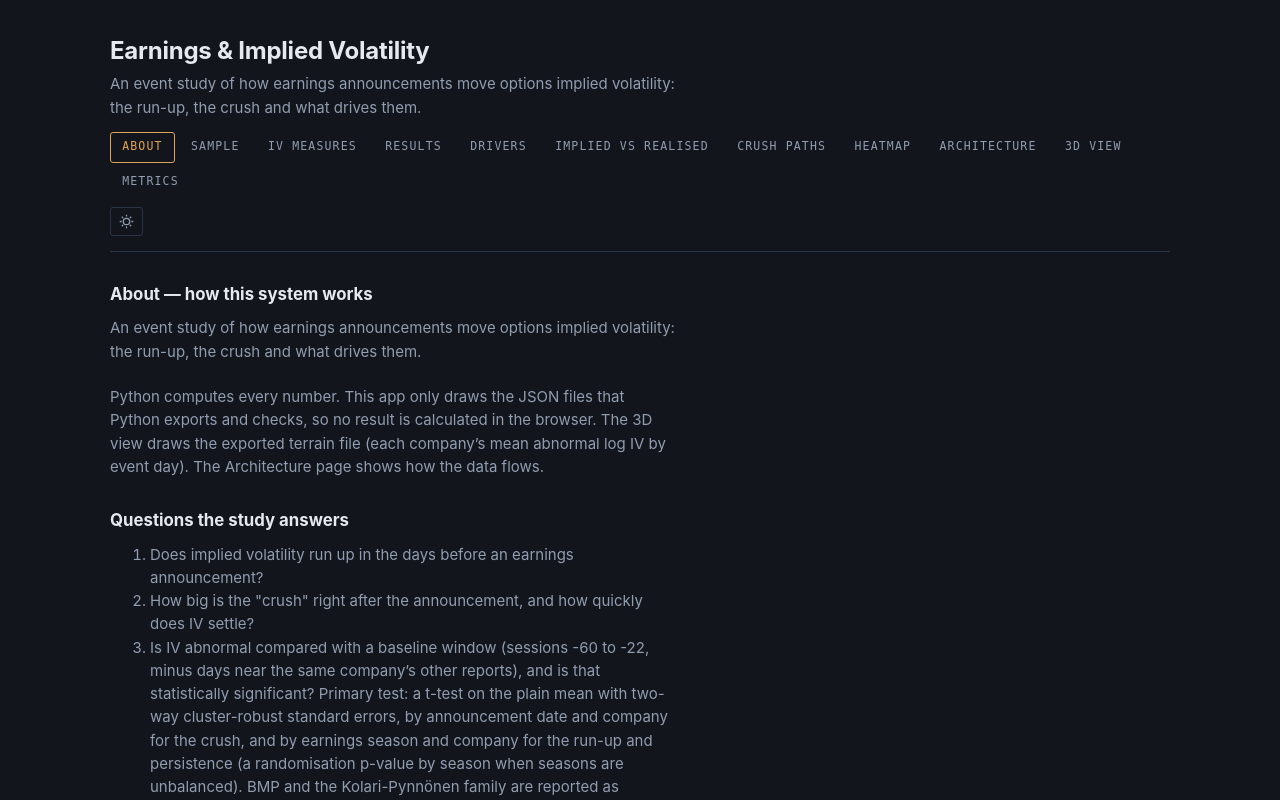
App (integration) › has an IV measures page, after Sample, that draws iv_measures.json (the fixture here)
Click the link "IV measures" at (312,146), box [268, 139, 357, 153]
(page scrolled)
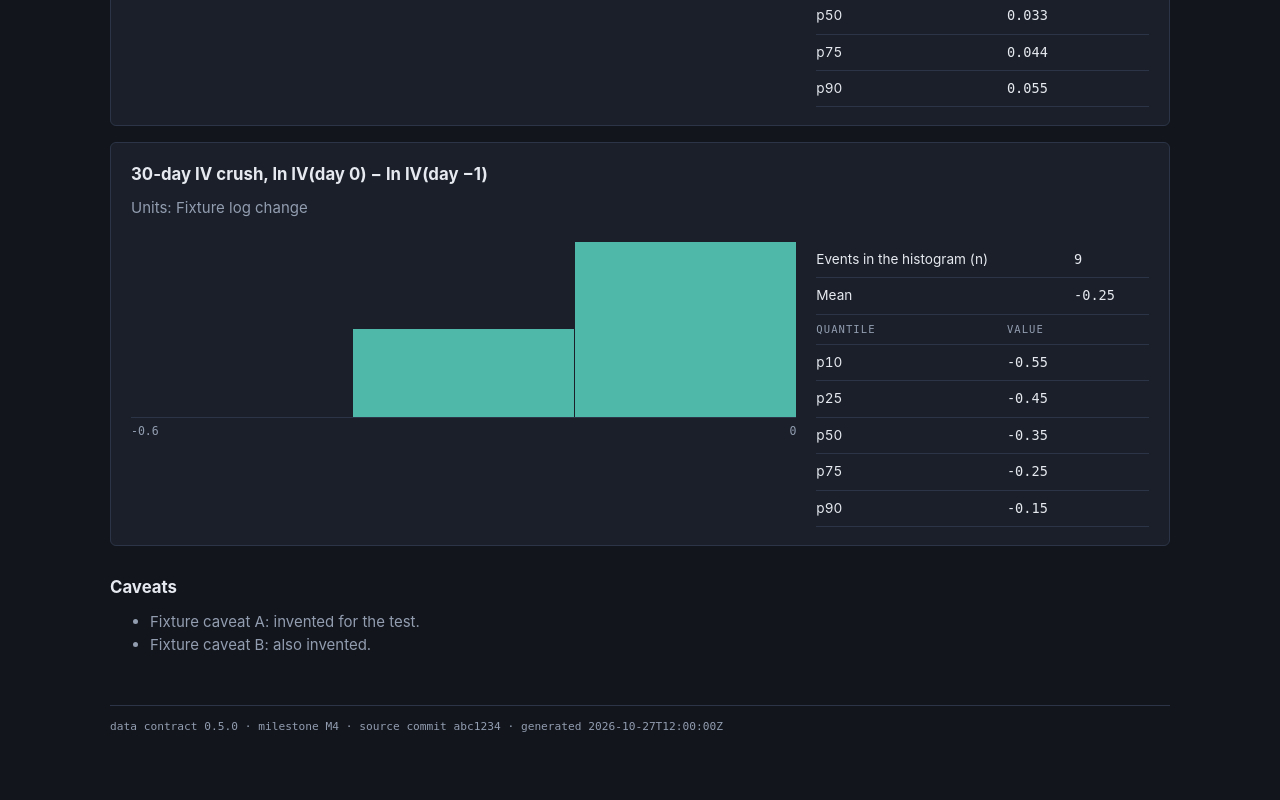
Now the element named "IV crush histogram" is shown, box [131, 242, 796, 418]
Now the list item "Fixture caveat A: invented for the test." is shown, box [150, 612, 420, 631]
Now the list item "Fixture caveat B: also invented." is shown, box [150, 635, 371, 654]
